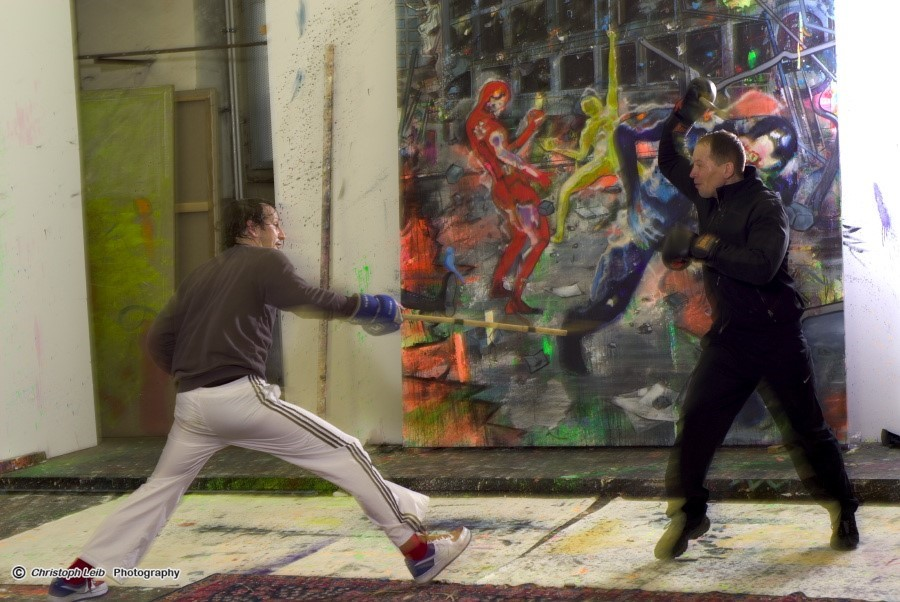baston_e: (404, 311, 565, 335)
baston_v: (560, 326, 570, 337)
